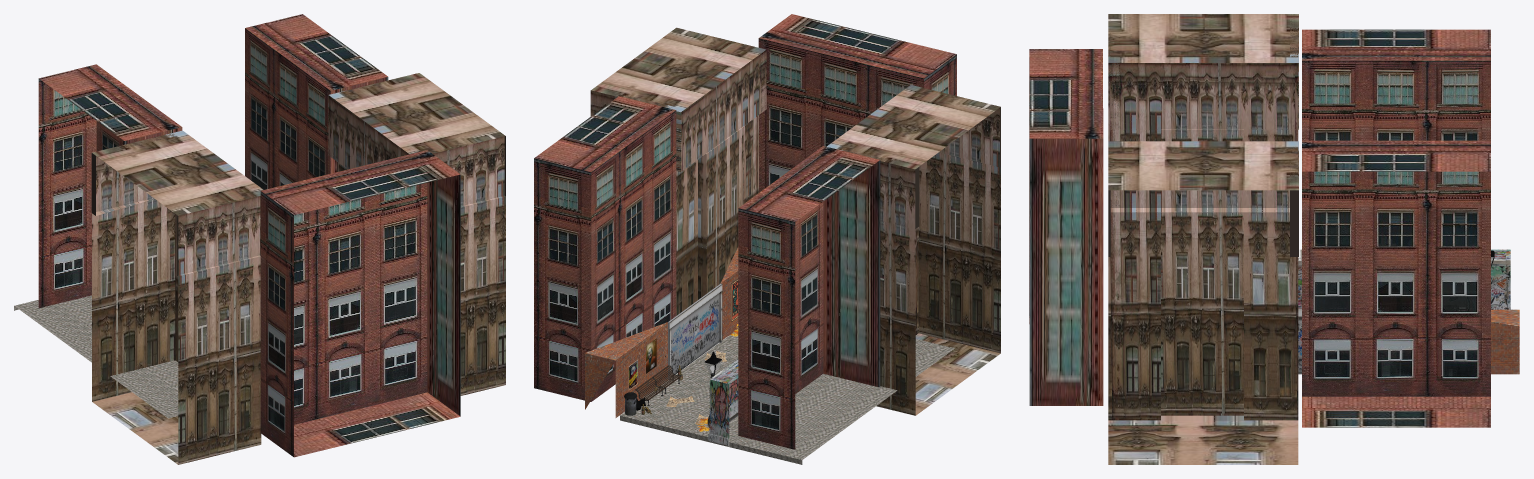
The model's file is street.glb.
3 views of the same model, side by side, from view 1: azimuth 30°, elevation 25°; view 2: azimuth 150°, elevation 25°; view 3: azimuth 270°, elevation 25° (orthographic). The views are drawn at different scales.
Parts seen in each view (by area): view 1: Cube.006_115, Cube.022_70, Cube.008_112, Cube.009_113, Cube.001_114, Cube.004_0; view 2: Cube.022_70, Cube.001_114, Cube.009_113, Cube.008_112, Cube.006_115, Cube.004_0, Cube.019_3, Cube.002_76, Cube.018_2; view 3: Cube.008_112, Cube.001_114, Cube.006_115, Cube.022_70, Cube.009_113, Cube.019_3, Cube.018_2.
Part boxes in pixels (x1=…): Cube.006_115: x1=260, y1=150, x2=460, y2=457; Cube.022_70: x1=91, y1=130, x2=263, y2=464; Cube.008_112: x1=328, y1=73, x2=505, y2=395; Cube.009_113: x1=38, y1=64, x2=182, y2=308; Cube.001_114: x1=245, y1=14, x2=388, y2=189; Cube.004_0: x1=14, y1=295, x2=178, y2=418; Cube.022_70: x1=826, y1=85, x2=1000, y2=415; Cube.001_114: x1=534, y1=96, x2=676, y2=401; Cube.009_113: x1=738, y1=146, x2=880, y2=449; Cube.008_112: x1=590, y1=27, x2=766, y2=315; Cube.006_115: x1=758, y1=14, x2=956, y2=192; Cube.004_0: x1=620, y1=332, x2=954, y2=464; Cube.019_3: x1=585, y1=247, x2=738, y2=417; Cube.002_76: x1=668, y1=283, x2=722, y2=380; Cube.018_2: x1=708, y1=359, x2=738, y2=446; Cube.008_112: x1=1108, y1=141, x2=1298, y2=464; Cube.001_114: x1=1302, y1=140, x2=1490, y2=427; Cube.006_115: x1=1029, y1=49, x2=1103, y2=405; Cube.022_70: x1=1108, y1=14, x2=1298, y2=141; Cube.009_113: x1=1302, y1=29, x2=1490, y2=140; Cube.019_3: x1=1491, y1=309, x2=1519, y2=374; Cube.018_2: x1=1298, y1=249, x2=1510, y2=309.
Bounding box in the file's own units: 25.55 × 19.1 × 30.
23 materials, 17 textured.
